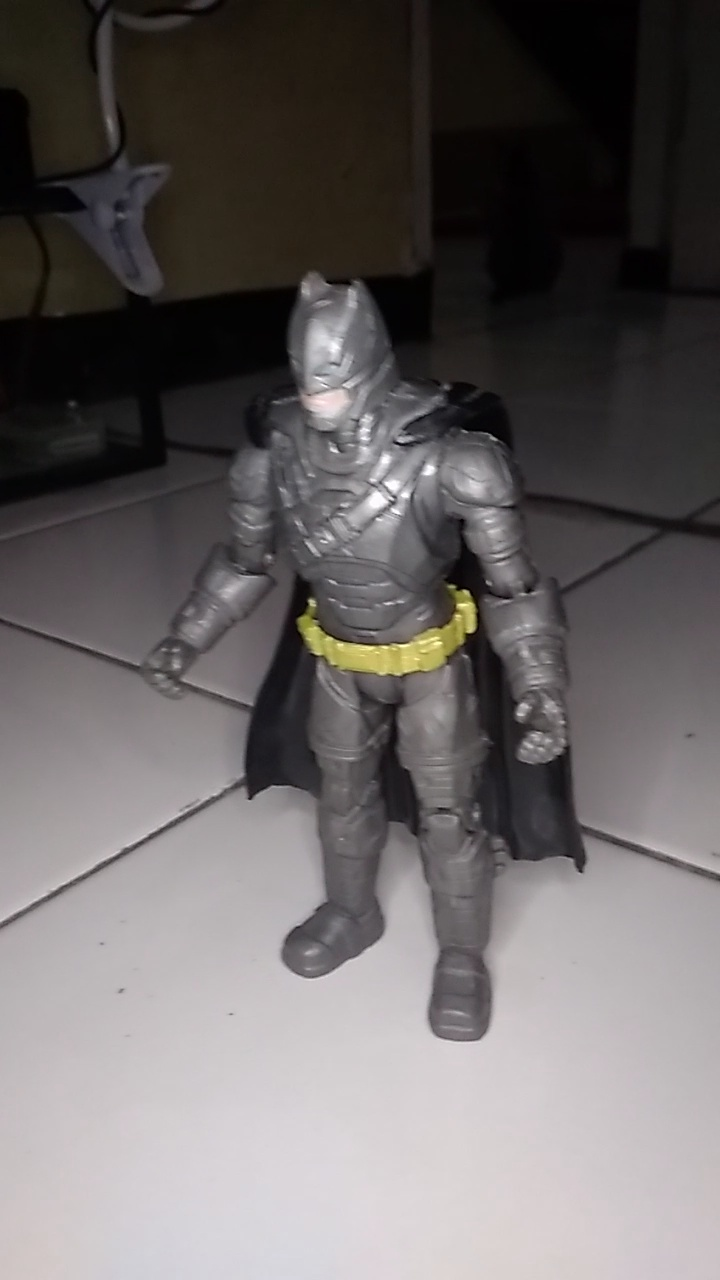batman: (125, 255, 610, 1074)
